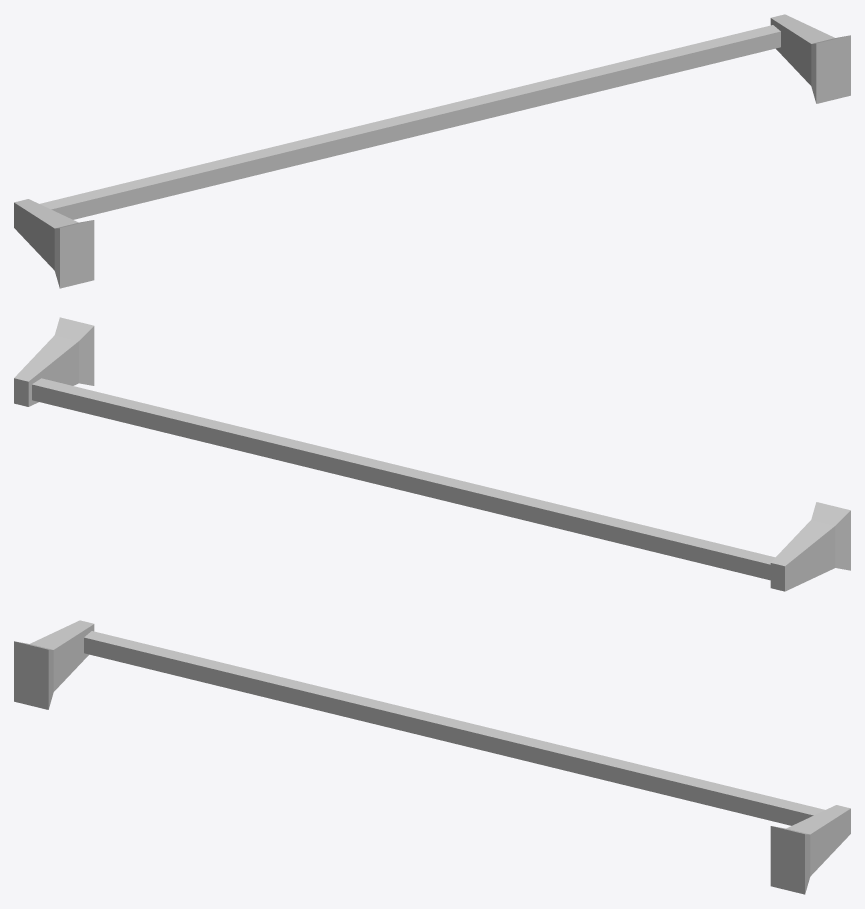
File: TowelHanger01.fbx
The picture shows the model from 3 angles, top to bottom: view 1: azimuth 30°, elevation 25°; view 2: azimuth 150°, elevation 25°; view 3: azimuth 330°, elevation 25°; orthographic projection.
Visible parts, largest first — view 1: TowelHanger01; view 2: TowelHanger01; view 3: TowelHanger01.
Part boxes in pixels (x1=…): TowelHanger01: x1=14, y1=14, x2=850, y2=288; TowelHanger01: x1=14, y1=317, x2=850, y2=591; TowelHanger01: x1=14, y1=620, x2=850, y2=894.
Bounding box in the file's own units: 81.12 × 5.92 × 9.93.
